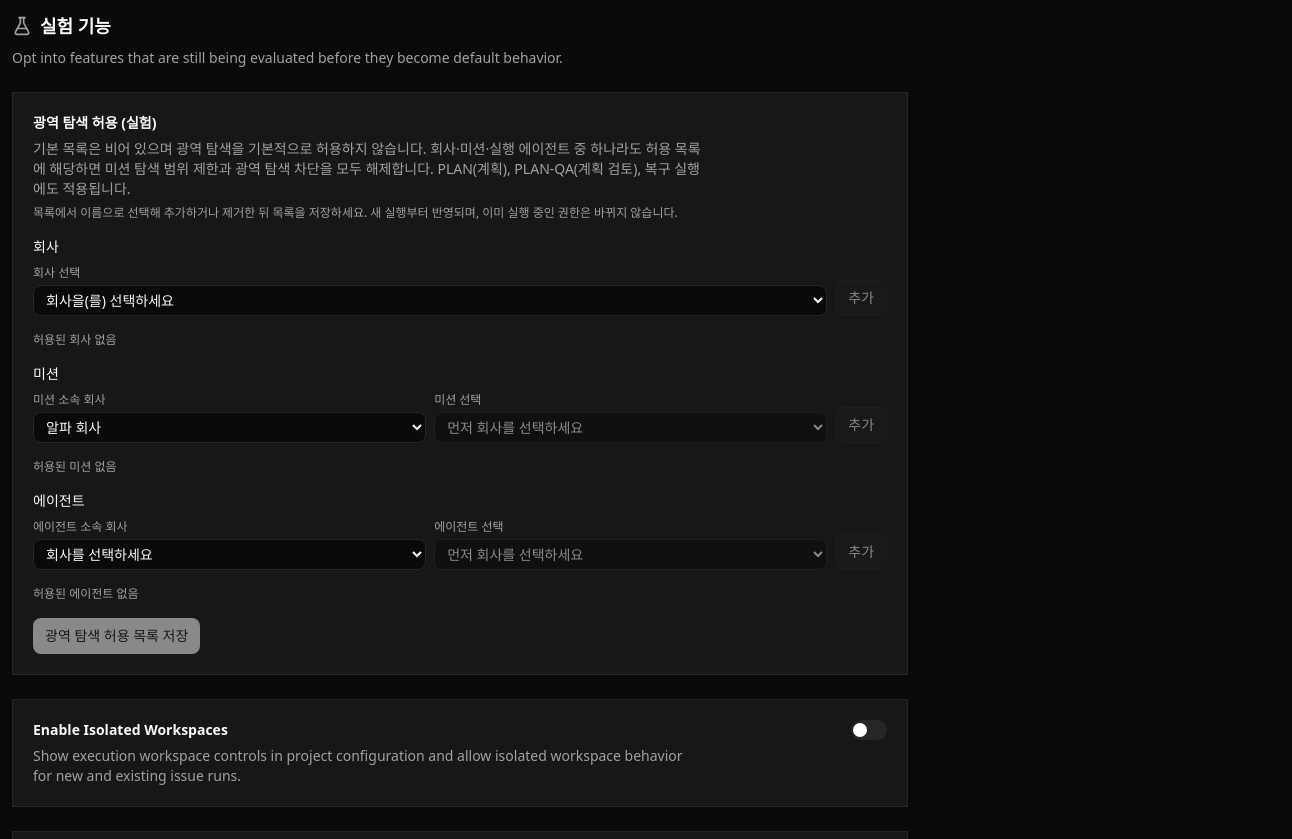
it: broad-search allowlist editing through the real settings page › surfaces the server error and preserves the draft for a successful retry
Expected: the label "미션 소속 회사" is shown, [33, 391, 106, 408]
Select "알파 회사" in the dropdown labelled "미션 소속 회사": {"x": 230, "y": 428} [33, 412, 426, 443]
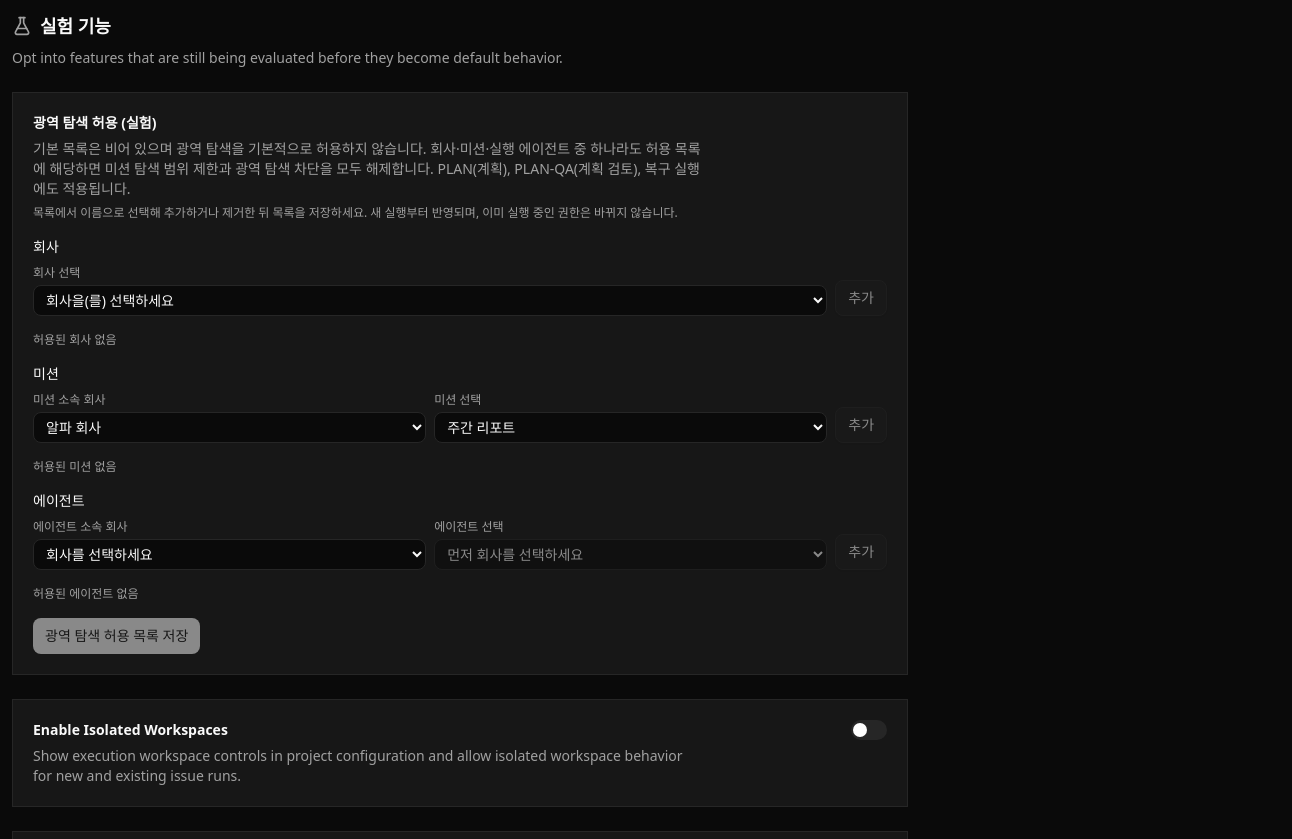
Expected: the label "미션 선택" is shown, [434, 391, 481, 408]
Select "주간 리포트" in the dropdown labelled "미션 선택": {"x": 631, "y": 428} [434, 412, 827, 443]
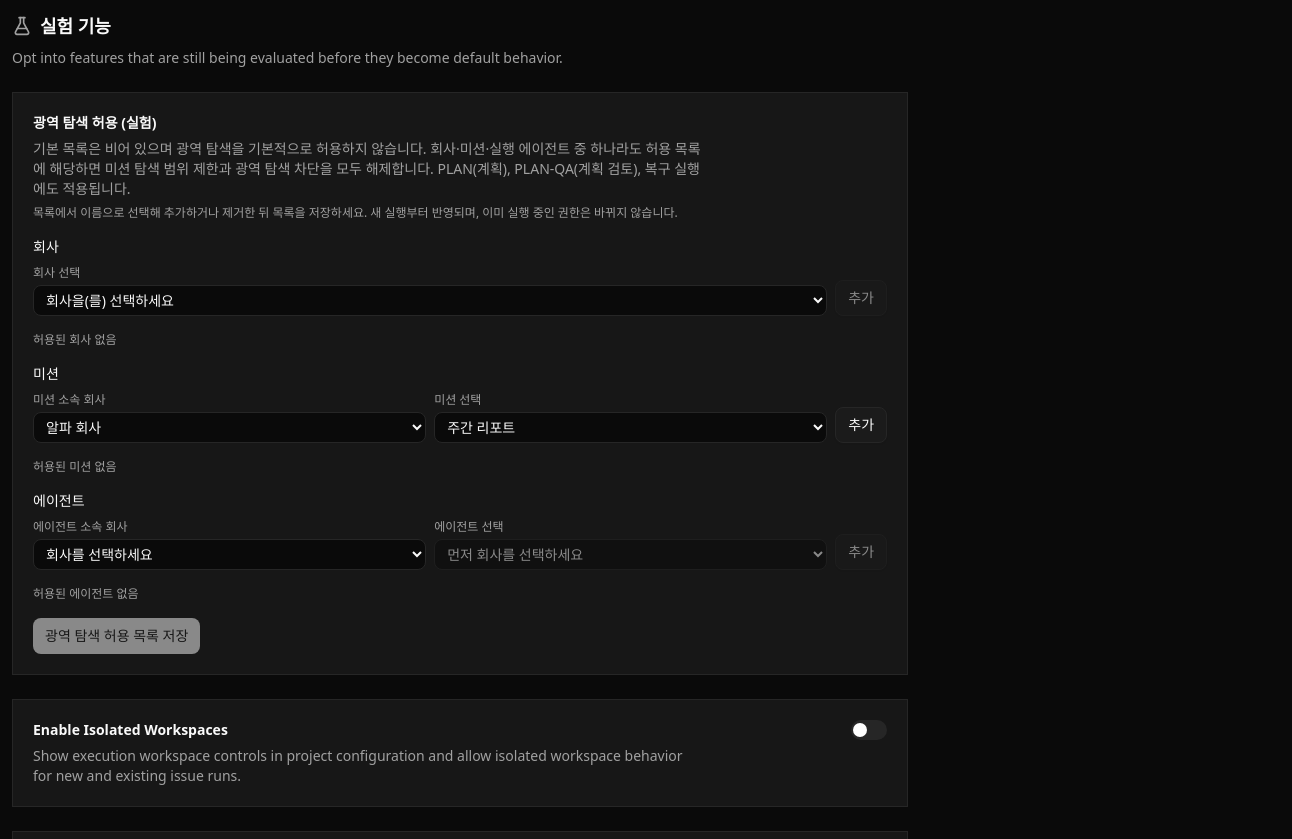
Click the 2nd button "추가": {"x": 861, "y": 425} [835, 407, 887, 443]
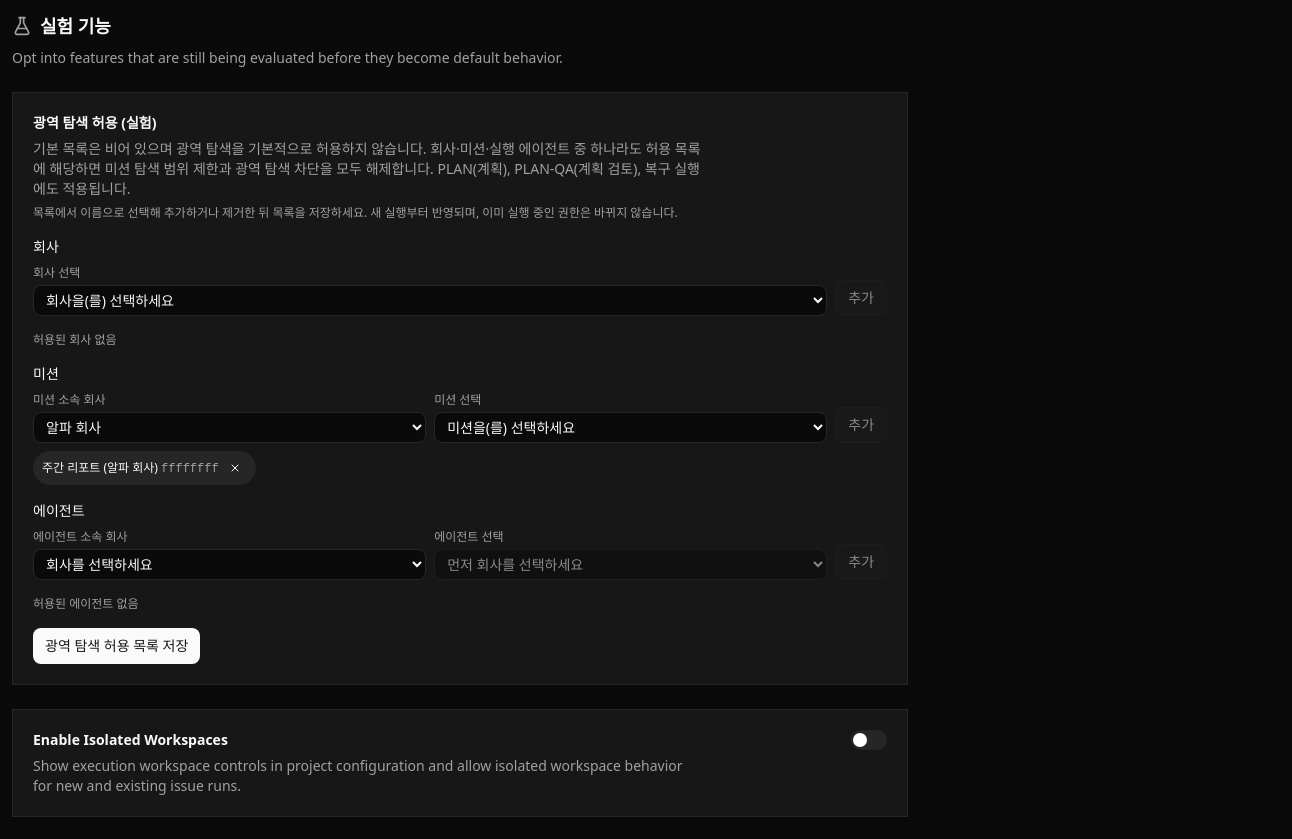
Click the button "광역 탐색 허용 목록 저장": {"x": 117, "y": 646} [33, 628, 200, 664]
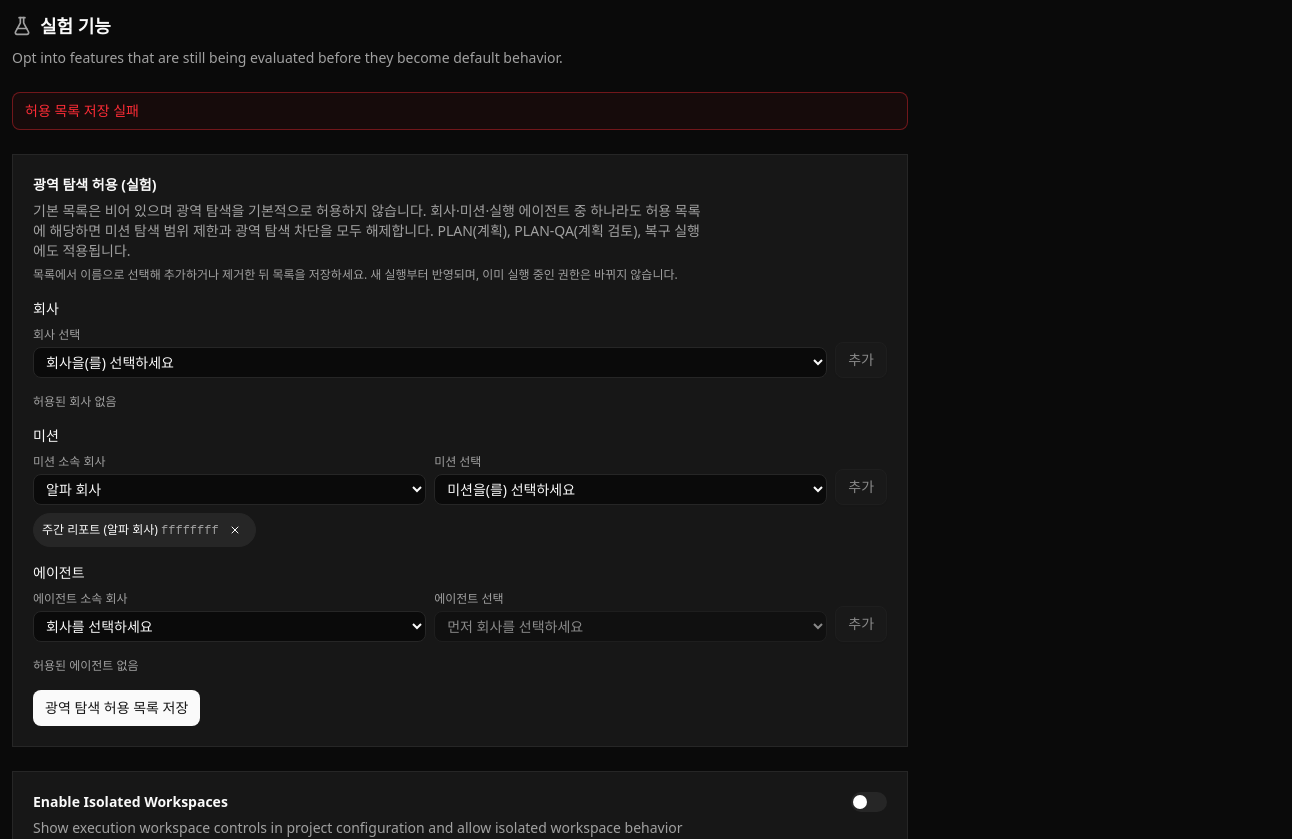
Now the button named "미션 ffffffff-0000-4000-8000-000000000006 제거" is shown, box [223, 518, 247, 542]
Now the text "허용 목록 저장 실패" is shown, box [12, 92, 908, 130]
Click the button "광역 탐색 허용 목록 저장": {"x": 117, "y": 708} [33, 690, 200, 726]
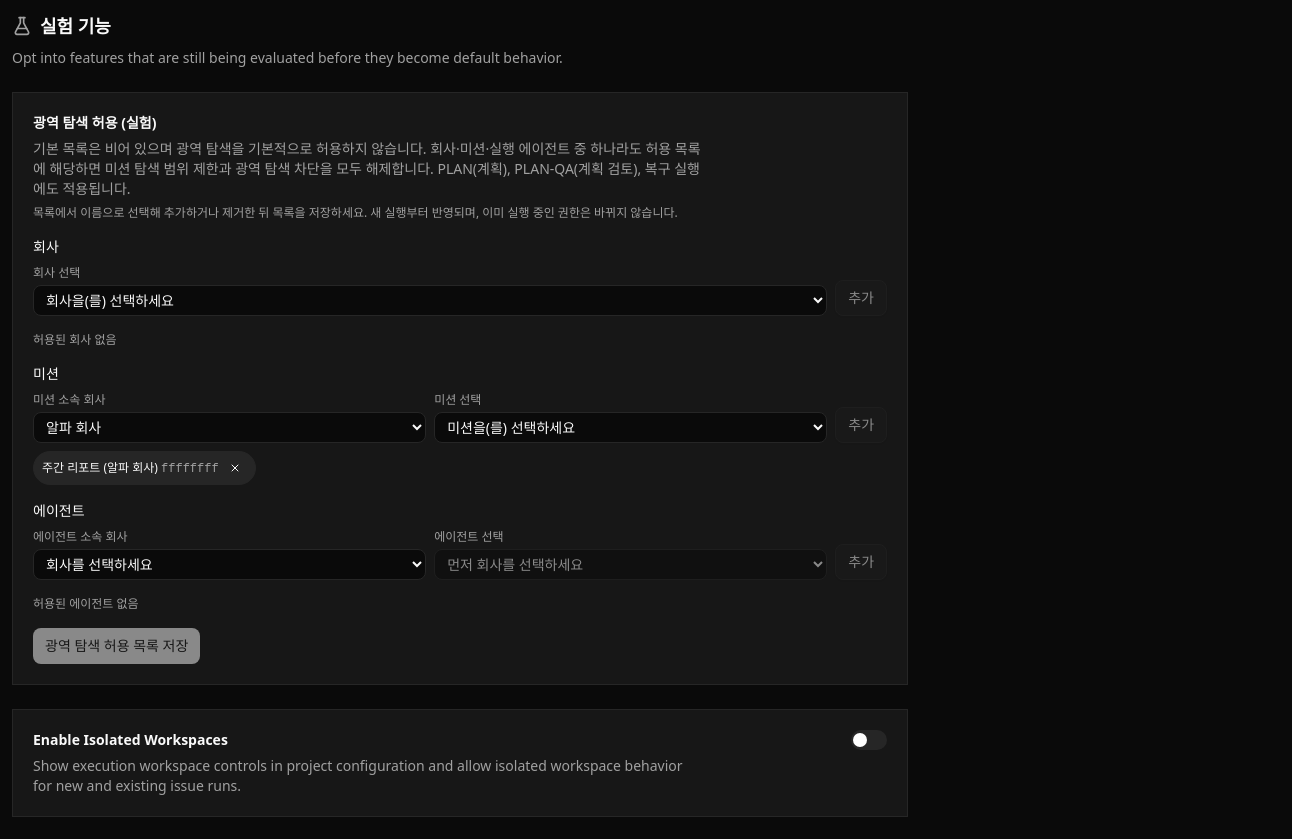
Now the text "허용 목록 저장 실패" is gone
